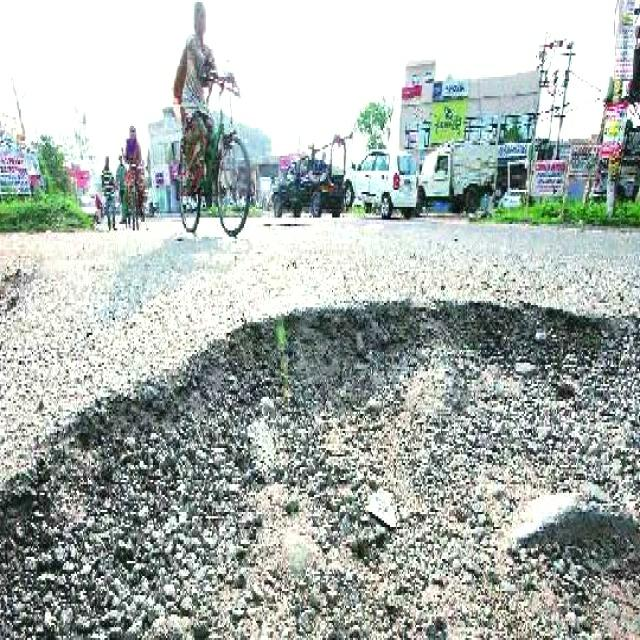Pothole: (1, 294, 640, 638)
